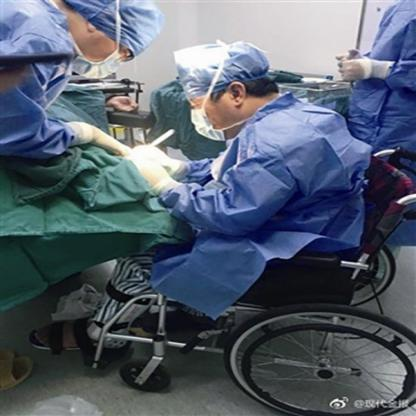wheelchair: (98, 43, 415, 416)
